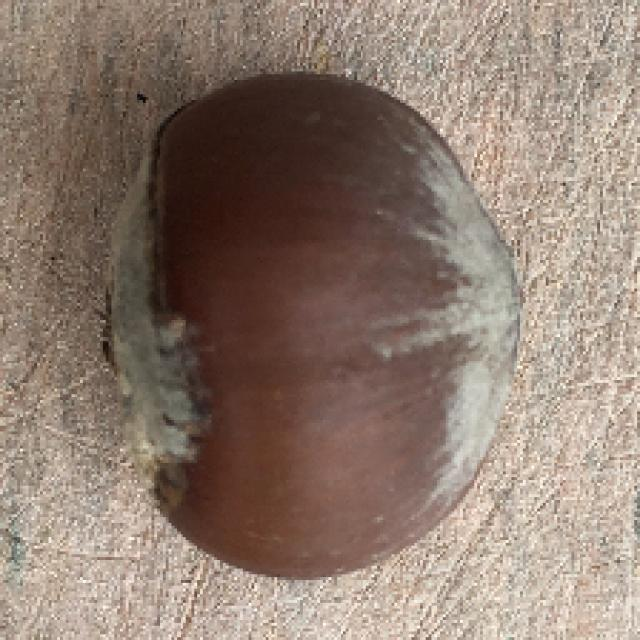damagedHazelnut: (97, 71, 530, 585)
